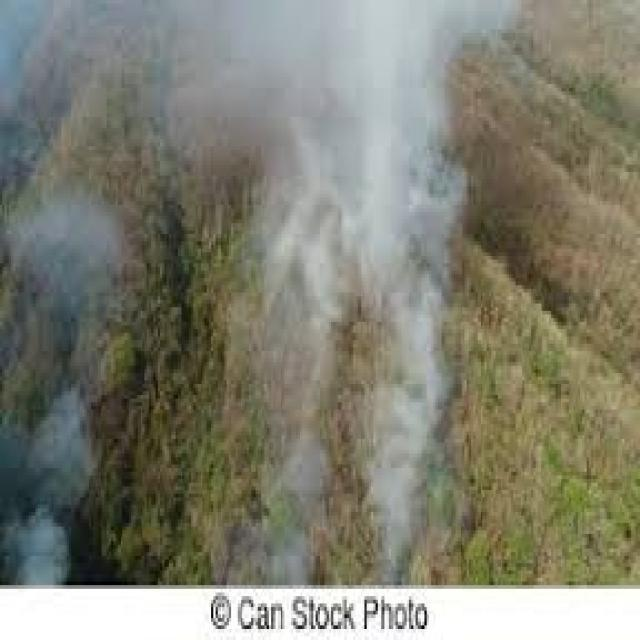Smoke: (203, 284, 479, 584), (195, 0, 472, 284), (0, 0, 193, 267), (0, 271, 126, 582)
